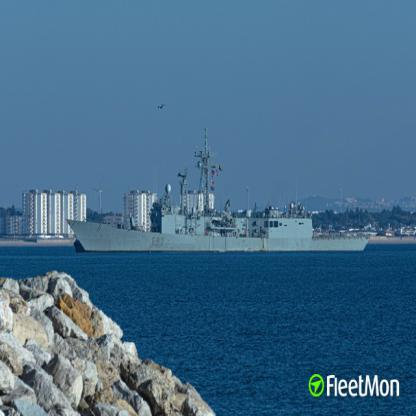Military Ship: (66, 128, 370, 252)
